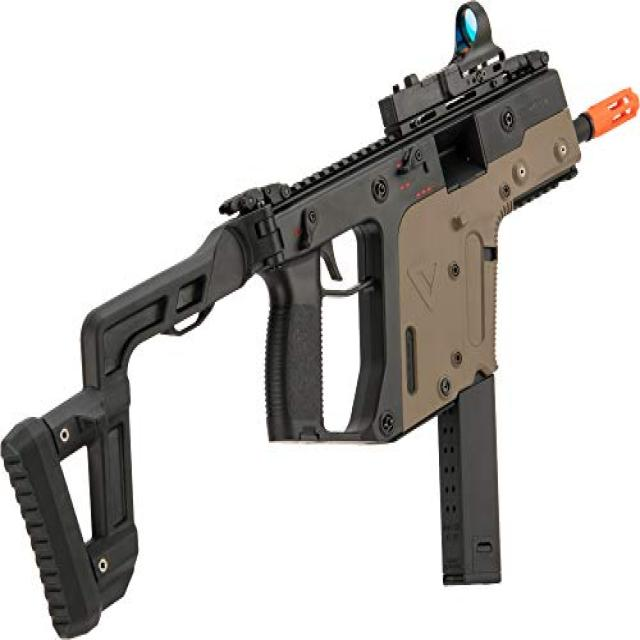SMG: (0, 2, 640, 640)
